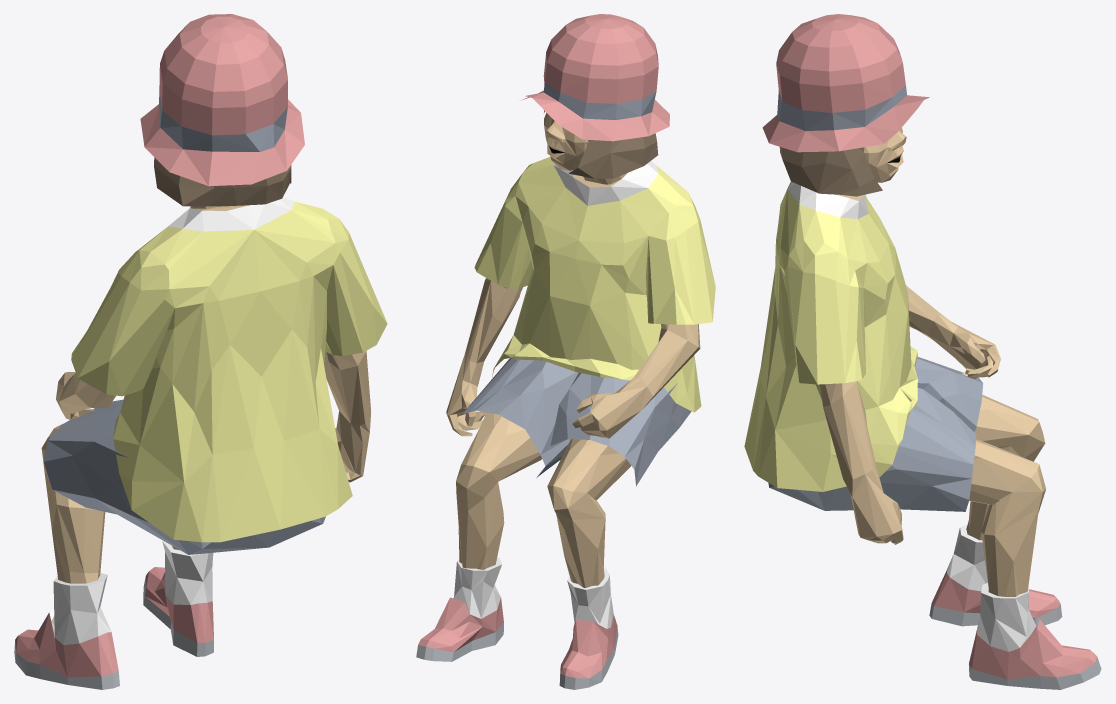
Rendered from child.glb.
3 views of the same model, side by side, from view 1: azimuth 30°, elevation 25°; view 2: azimuth 150°, elevation 25°; view 3: azimuth 270°, elevation 25° (orthographic). The views are drawn at different scales.
Parts seen in each view (by area): view 1: Group2, Group7, Group5, Group8, Group6, Group1, Group4, Group3; view 2: Group2, Group7, Group5, Group9, Group1, Group6, Group3, Group8, Group4; view 3: Group2, Group7, Group5, Group6, Group9, Group4, Group8, Group1, Group3.
Boxes of the visible parts, <box> form: Group2: <box>71,197,387,542</box>; Group7: <box>140,14,304,208</box>; Group5: <box>44,399,325,554</box>; Group8: <box>14,573,119,689</box>; Group6: <box>143,540,213,656</box>; Group1: <box>41,424,105,583</box>; Group4: <box>324,351,371,482</box>; Group3: <box>56,372,115,419</box>; Group2: <box>474,156,715,412</box>; Group7: <box>521,14,669,184</box>; Group5: <box>462,358,691,486</box>; Group9: <box>456,412,541,569</box>; Group1: <box>547,439,631,587</box>; Group6: <box>416,557,503,661</box>; Group3: <box>572,324,700,438</box>; Group8: <box>559,567,618,689</box>; Group4: <box>446,278,522,436</box>; Group2: <box>744,181,917,491</box>; Group7: <box>762,14,929,196</box>; Group5: <box>768,356,983,511</box>; Group6: <box>969,583,1101,689</box>; Group9: <box>969,439,1045,596</box>; Group4: <box>820,381,903,544</box>; Group8: <box>929,525,1062,626</box>; Group1: <box>966,395,1045,540</box>; Group3: <box>906,285,1000,378</box>.
Bounding box in the file's own units: 17.5 × 39.08 × 19.94.
